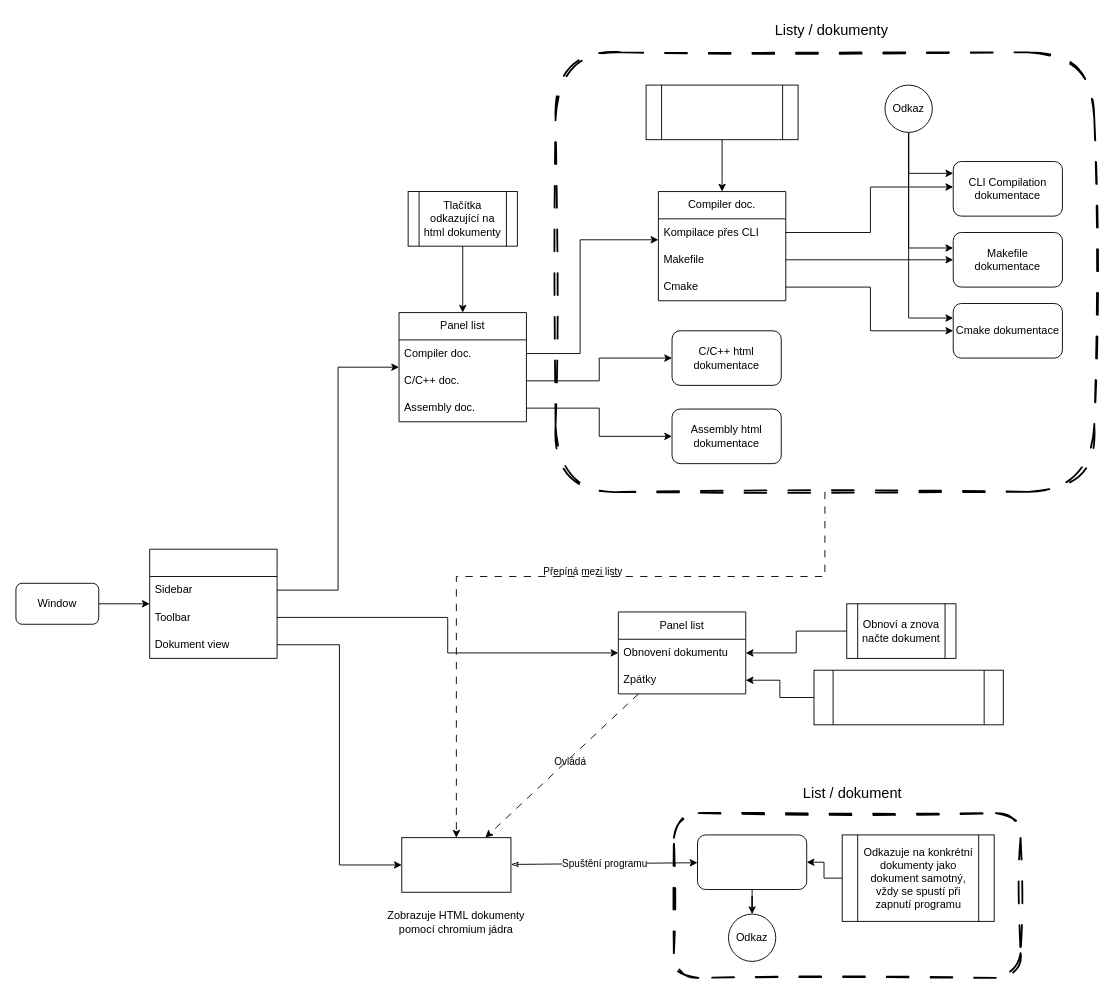
The diagram is 1111 pixels wide and 994 high, and some of its shapes have lost their labels. The box of each missing label's shape, as (x1, y1, x2, y2) in pixels:
Layout: (149, 548, 277, 658)
Odkazuje na konkrétní dokumenty jako dokument samotný: (645, 84, 798, 140)
QWebViewEngine: (401, 837, 511, 892)
Vrátí se na předchozí načtený dokument v aktuálním zakliknutí (pouze odkazy): (813, 669, 1003, 725)
Welcome page: (697, 834, 807, 890)
